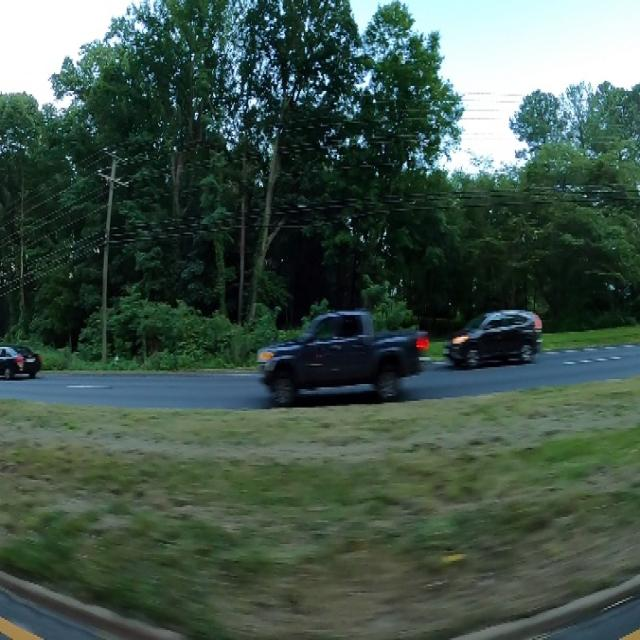car: (243, 300, 431, 408), (446, 298, 544, 374), (0, 332, 37, 387)
